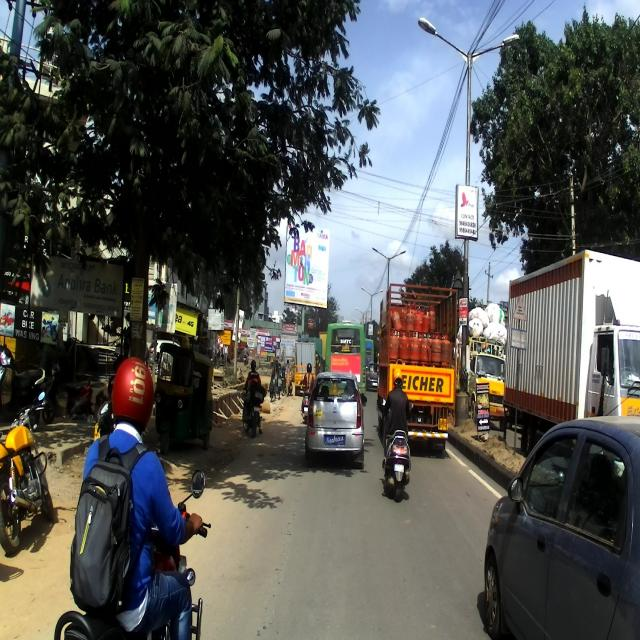Car_Chevrolet: (482, 416, 639, 638)
Car_TATA: (304, 371, 367, 469)
autorickshaw: (153, 342, 213, 454)
bus: (325, 322, 368, 394)
motorcycle_RoyalEnfield: (52, 468, 212, 640), (0, 392, 53, 554)
scooter: (380, 396, 413, 502), (42, 360, 94, 426)
truck: (504, 248, 639, 458), (378, 283, 457, 459), (456, 300, 513, 436)
